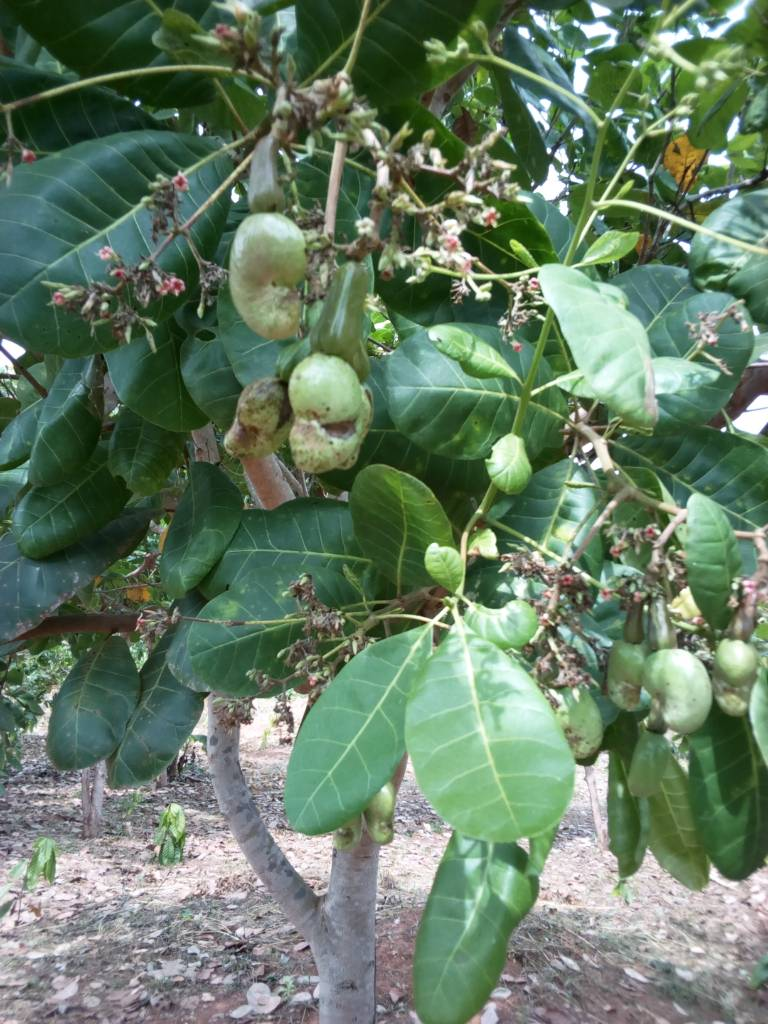Helopeltis anacardii: (211, 574, 369, 746), (57, 172, 197, 339), (511, 555, 610, 689)
